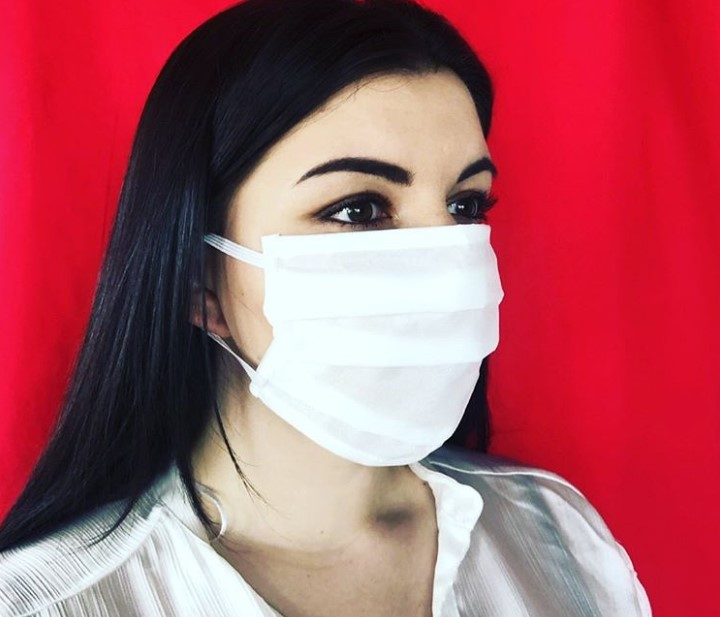face_with_mask: (141, 8, 513, 475)
